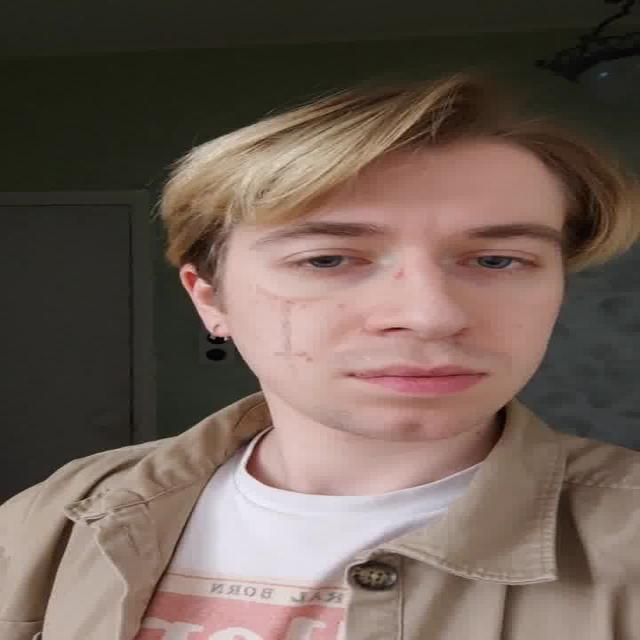earlobe: (178, 262, 233, 338)
